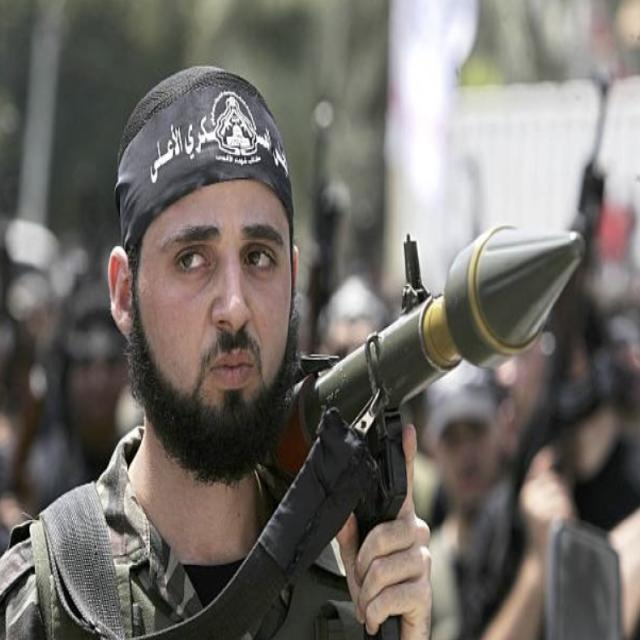bazooka: (290, 215, 598, 640)
